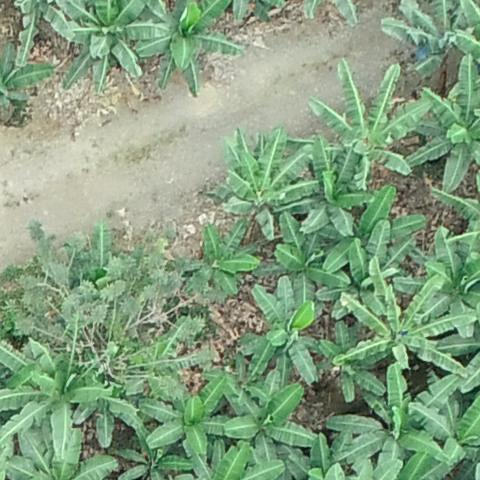Banana-plant: (322, 367, 443, 477), (344, 267, 455, 383), (310, 68, 415, 181), (6, 346, 109, 452), (400, 61, 480, 189), (240, 280, 321, 393), (60, 0, 161, 86), (140, 0, 237, 89), (217, 378, 315, 466), (328, 191, 426, 273), (139, 374, 226, 461), (224, 138, 306, 225), (408, 231, 480, 329), (415, 375, 480, 480), (168, 221, 257, 296), (382, 0, 480, 66), (271, 215, 340, 292)
